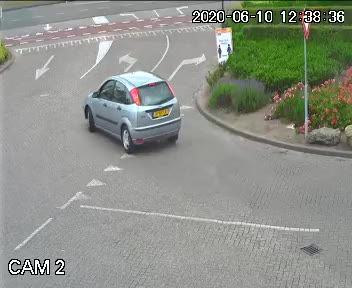car: (81, 67, 187, 154)
